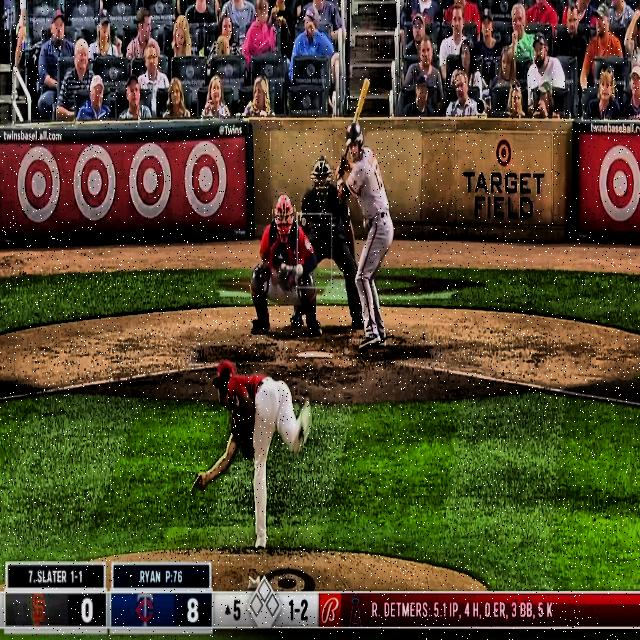baseball: (295, 262, 304, 276)
